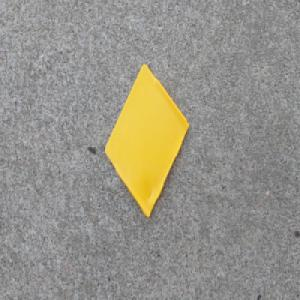PlasticPart: (103, 63, 190, 219)
